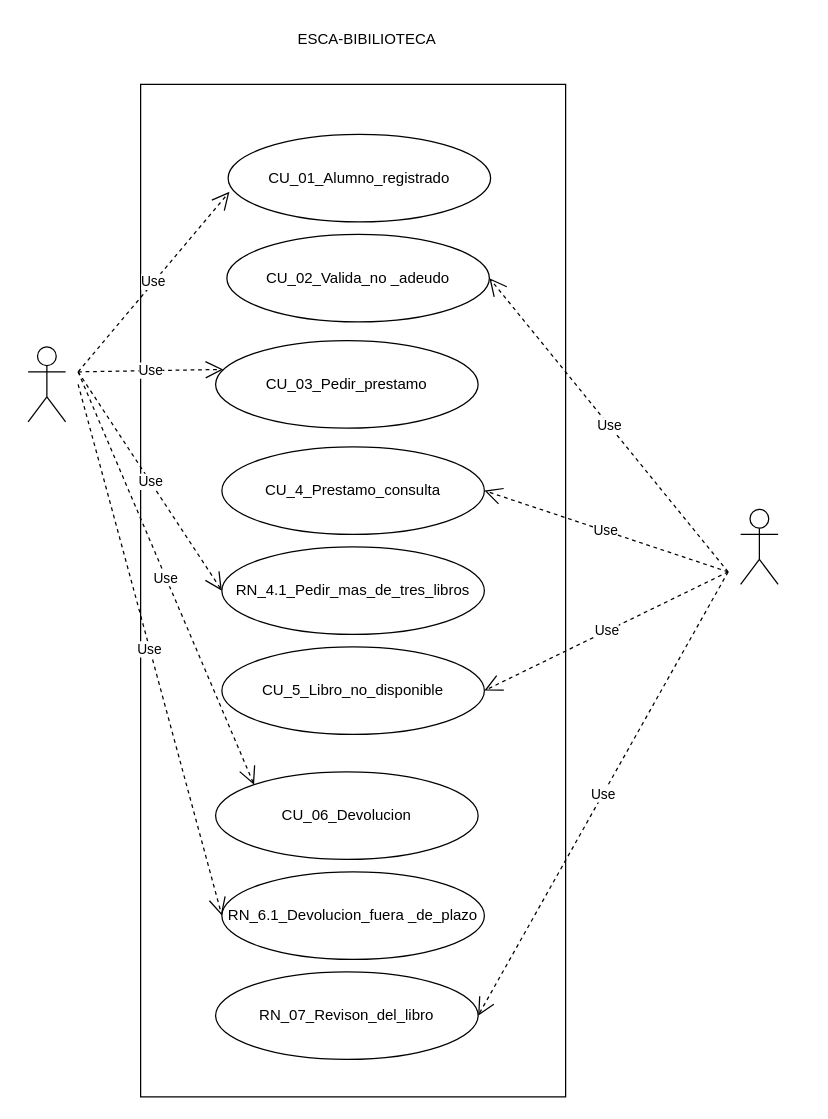
Image size: 828x1119. Some labels were removed from this diagram. The shapes that lost their labels are listed below. From the top down, each one's centre as x and y in pixels, then its label:
point 46,384: Alumno
point 758,546: Administrador
